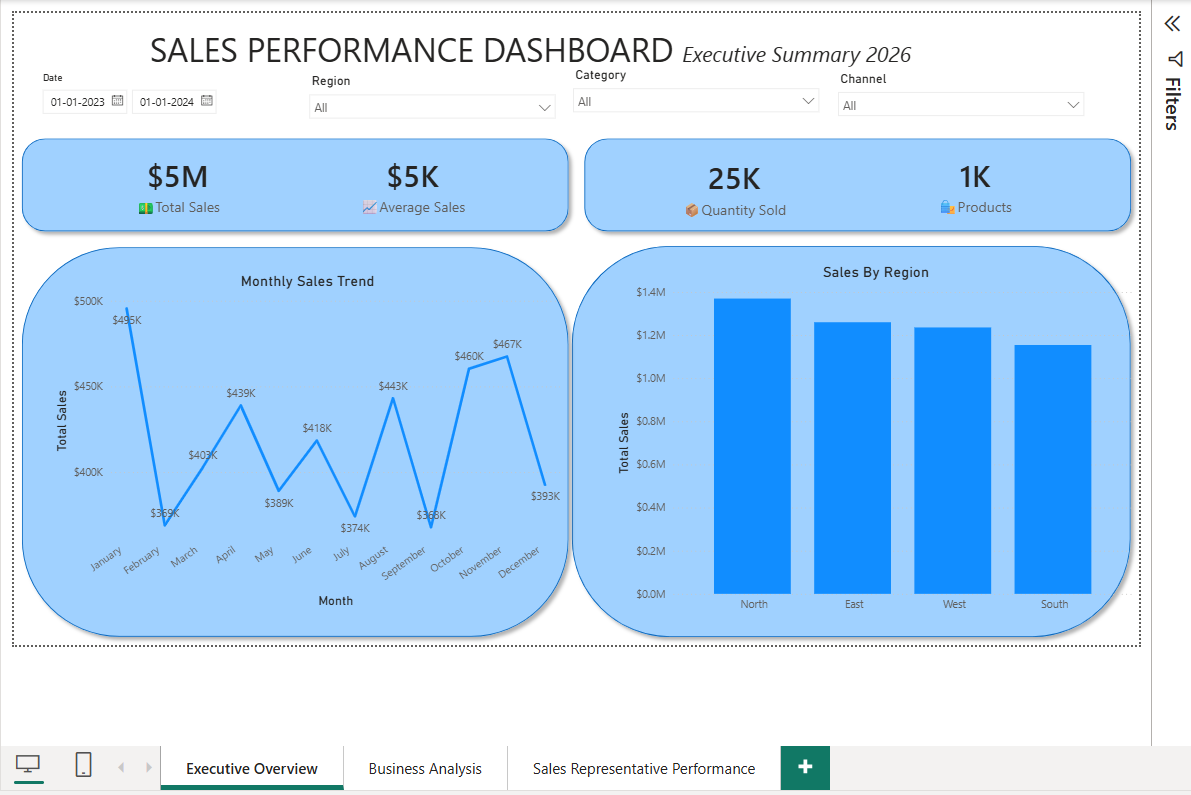

What the dashboard file says about the page in this screenshot:
{"tool":"powerbi","page":{"name":"Executive Overview","canvas":[1280,720],"ordinal":0},"visuals":[{"type":"shape","box":[626.4,255.3,653.6,463],"z":0},{"type":"shape","box":[0,257,640,461.3],"z":1000},{"type":"shape","box":[640,133.6,640,123.8],"z":2000},{"type":"shape","box":[0,133.6,640,123.8],"z":3000},{"type":"cardVisual","fields":{"Data":["Sum(sales_data.Sales_Amount)"]},"box":[54.3,100.2,265.7,192],"z":4000},{"type":"cardVisual","fields":{"Data":["Avg(sales_data.Sales_Amount)"]},"box":[320,100.2,267.1,192],"z":5000},{"type":"cardVisual","fields":{"Data":["Sum(sales_data.Quantity_Sold)"]},"box":[687.3,103,265.7,192],"z":6000},{"type":"cardVisual","fields":{"Data":["CountNonNull(sales_data.Product_ID)"]},"box":[960,100.2,267.1,192],"z":7000},{"type":"lineChart","title":"Monthly Sales Trend","fields":{"Category":["sales_data.Sale_Date.Variation.Date Hierarchy.Month","sales_data.Sale_Date.Variation.Date Hierarchy.Day"],"Y":["Sum(sales_data.Sales_Amount)"]},"box":[40.9,294.5,585.5,388.1],"z":8000},{"type":"clusteredColumnChart","title":"Sales By Region","fields":{"Category":["sales_data.Region"],"Y":["Sum(sales_data.Sales_Amount)"]},"box":[680.9,284.3,599.1,420.4],"z":9000},{"type":"textbox","box":[148.9,11.1,893.2,62.6],"z":10000},{"type":"slicer","fields":{"Values":["sales_data.Sale_Date"]},"box":[19.5,62.6,300.5,76.5],"z":11000},{"type":"slicer","fields":{"Values":["sales_data.Region"]},"box":[325.6,64,300.5,76.5],"z":12000},{"type":"slicer","fields":{"Values":["sales_data.Product_Category"]},"box":[626.1,57,300.5,76.5],"z":13000},{"type":"slicer","fields":{"Values":["sales_data.Sales_Channel"]},"box":[926.6,61.2,300.5,76.5],"z":14000}]}

Visuals, with their boxes on the page's 1280x720 design canvas (x1, y1, x2, y2). These are canvas units, not pixel positions in the 1191x795 screenshot, which may show the page scaled, cropped or inside an application window:
shape: 626, 255, 1280, 718
shape: 0, 257, 640, 718
shape: 640, 134, 1280, 257
shape: 0, 134, 640, 257
cardVisual - Sum(sales_data.Sales_Amount): 54, 100, 320, 292
cardVisual - Avg(sales_data.Sales_Amount): 320, 100, 587, 292
cardVisual - Sum(sales_data.Quantity_Sold): 687, 103, 953, 295
cardVisual - CountNonNull(sales_data.Product_ID): 960, 100, 1227, 292
"Monthly Sales Trend" lineChart: 41, 294, 626, 683
"Sales By Region" clusteredColumnChart: 681, 284, 1280, 705
textbox: 149, 11, 1042, 74
slicer - sales_data.Sale_Date: 20, 63, 320, 139
slicer - sales_data.Region: 326, 64, 626, 140
slicer - sales_data.Product_Category: 626, 57, 927, 134
slicer - sales_data.Sales_Channel: 927, 61, 1227, 138
